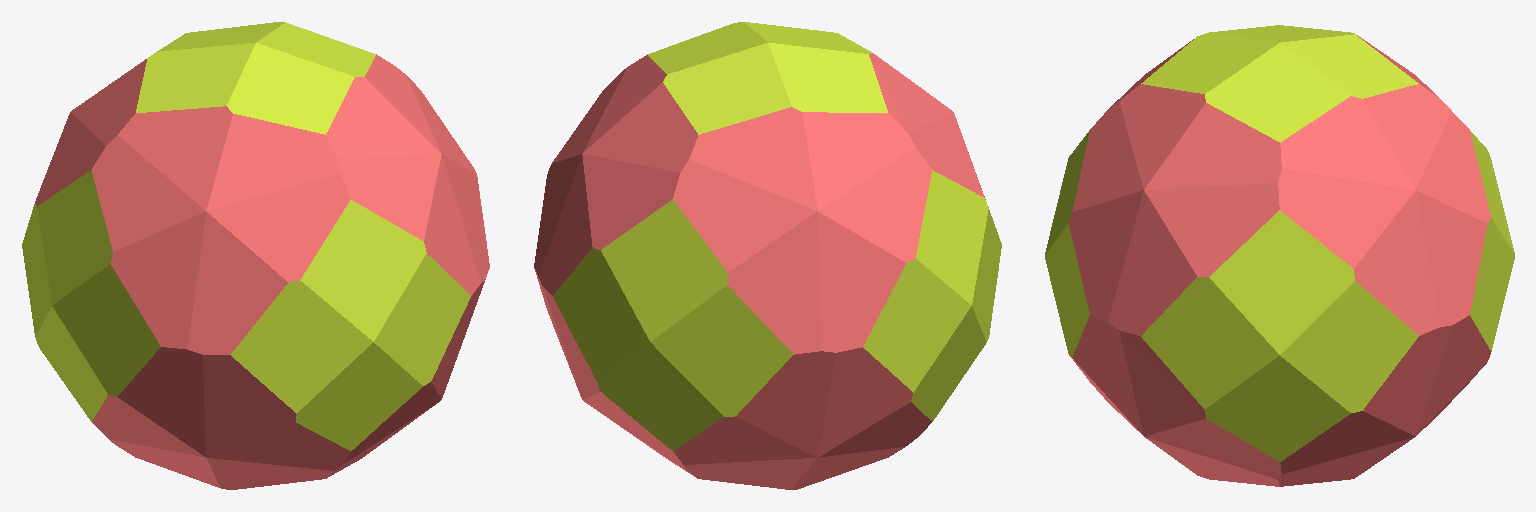
Rendered from BiscribedDualSnubTruncatedOctahedron.obj.
3 views of the same model, side by side, from view 1: azimuth 30°, elevation 25°; view 2: azimuth 150°, elevation 25°; view 3: azimuth 270°, elevation 25° (orthographic).
Bounding box in the file's own units: 2 × 2 × 2.